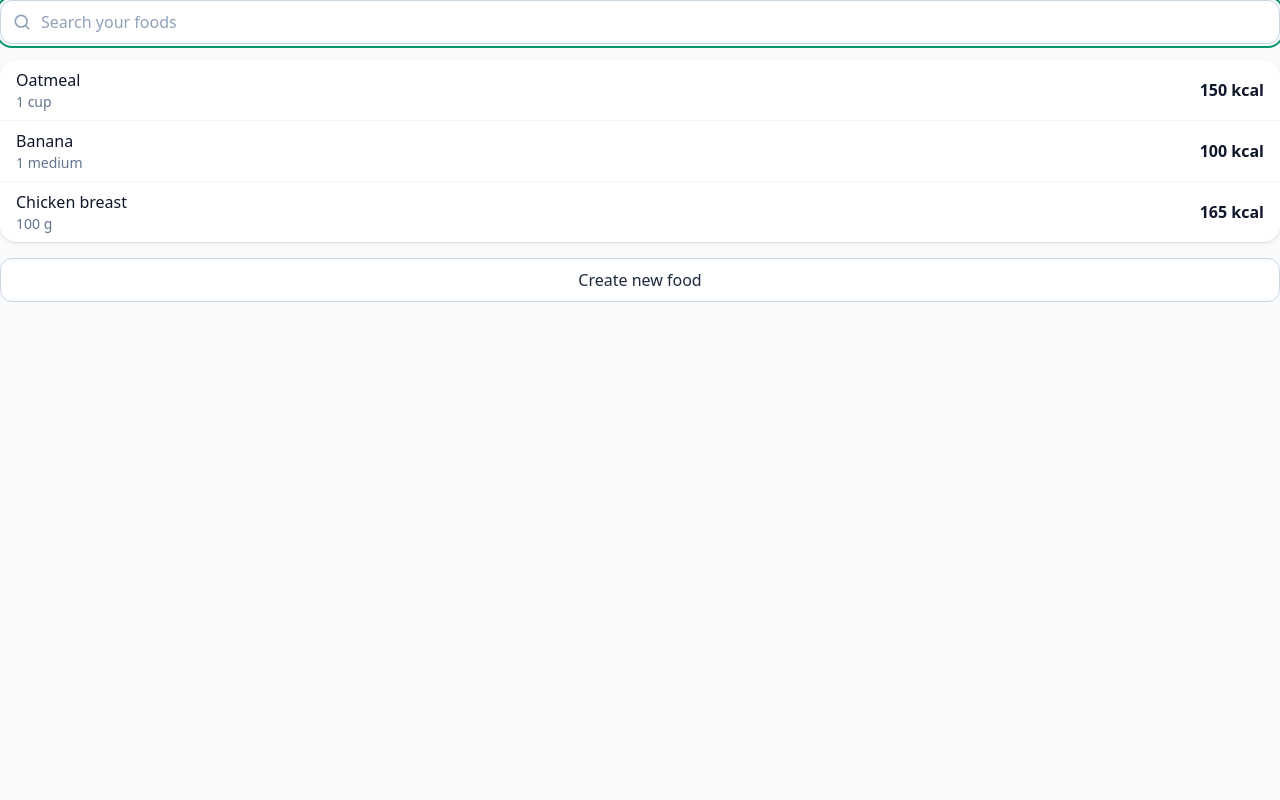
it: AddFoodView (Log food) › shows an error and stays when logging fails
Click the button "Oatmeal 1 cup 150 kcal": [48, 80] box [0,60,1279,120]
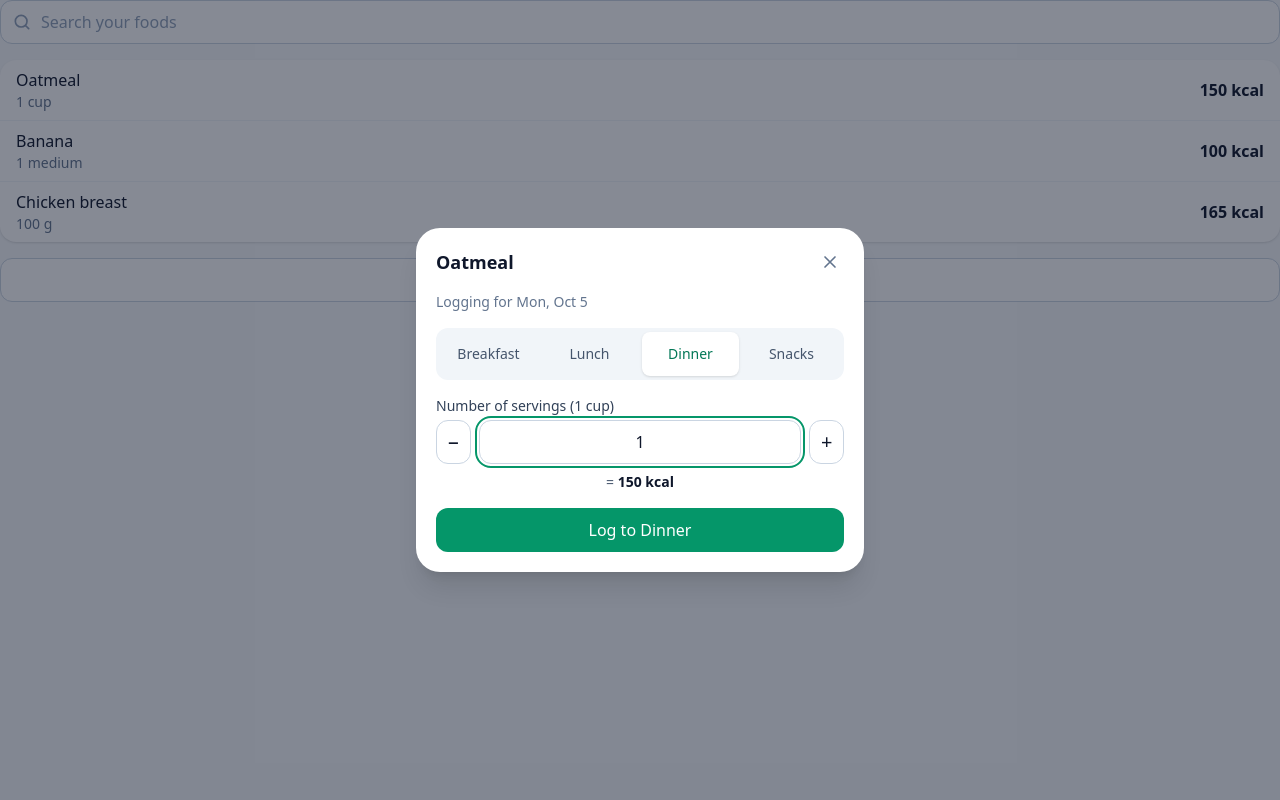
Click the button "Log to Dinner": [640, 530] box [436,508,844,552]
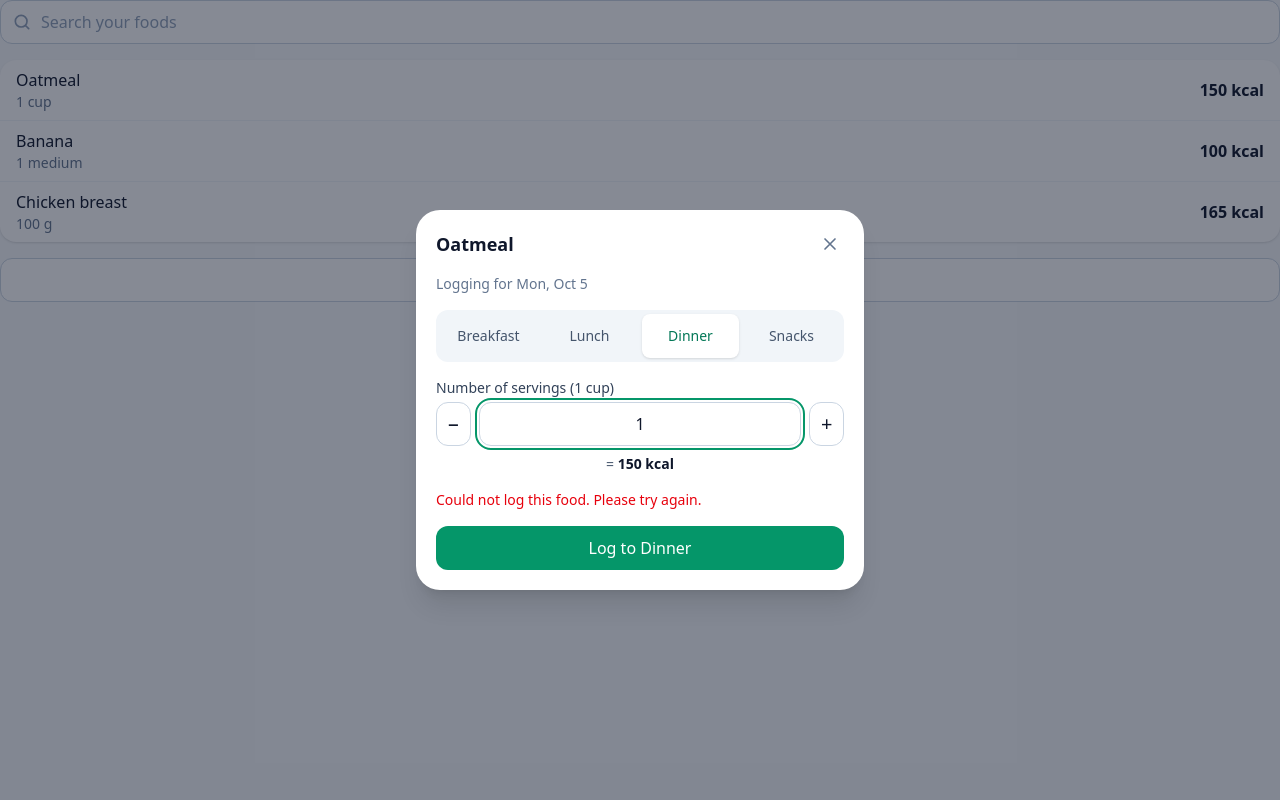
expect the text "Could not log this food" is shown: met, box [436,490,701,509]
